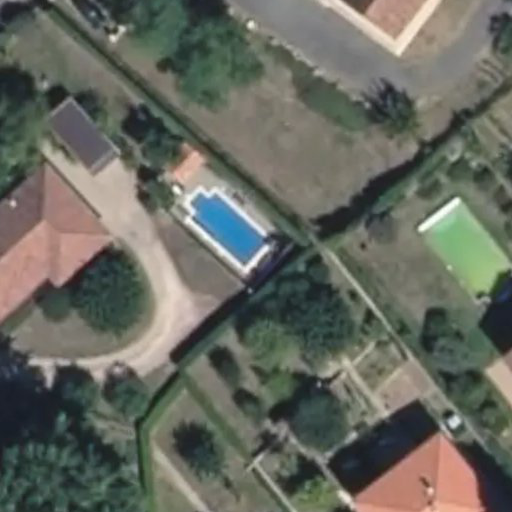pool: (207, 223, 298, 254)
